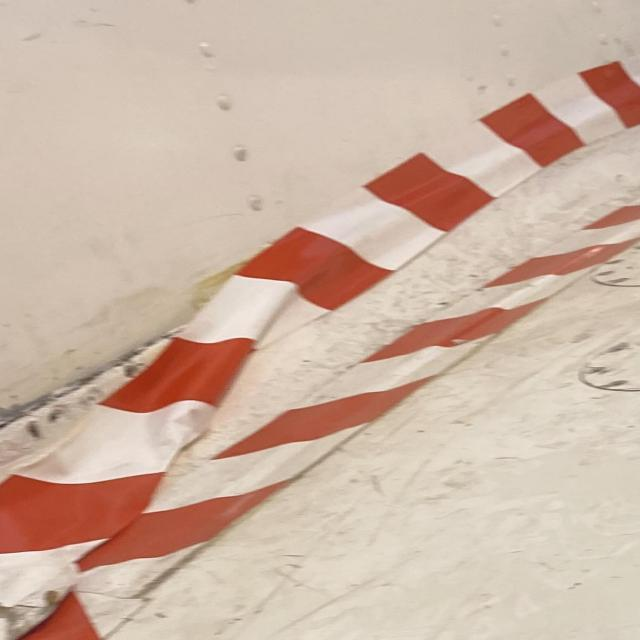Rupture: (0, 322, 195, 441)
